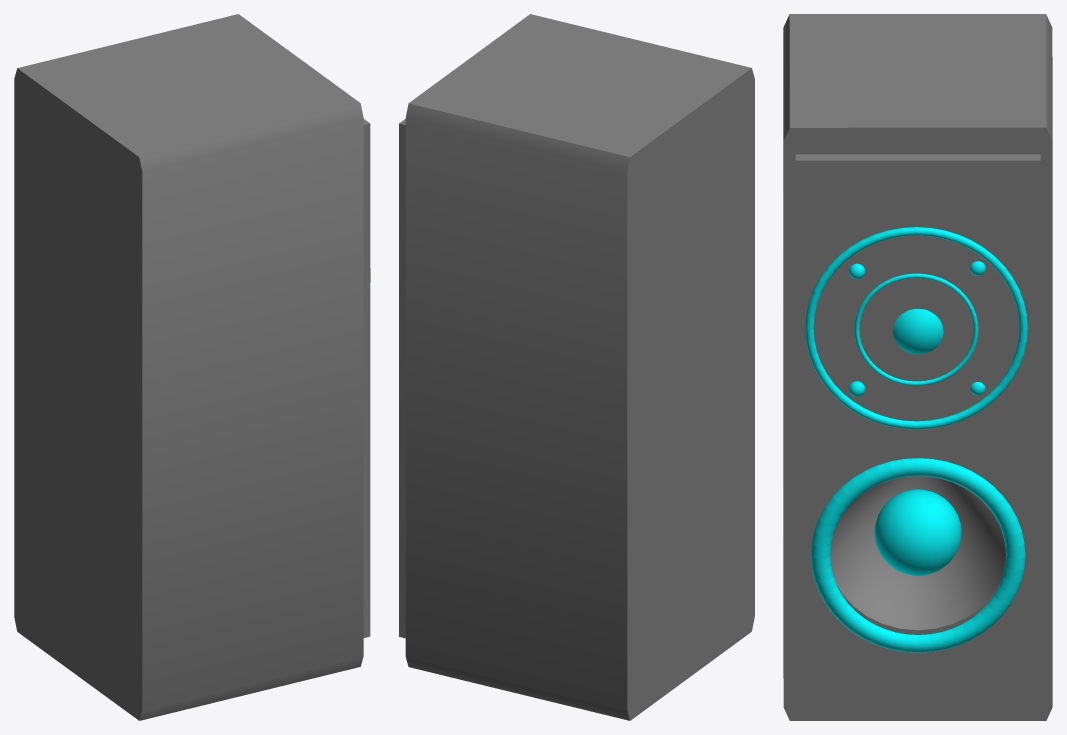
File: Speakers_new_compressed.glb
3 views of the same model, side by side, from view 1: azimuth 30°, elevation 25°; view 2: azimuth 150°, elevation 25°; view 3: azimuth 270°, elevation 25° (orthographic). The views are drawn at different scales.
Parts seen in each view (by area): view 1: Speaker; view 2: Speaker; view 3: Speaker, Torus.001, Circle.
Part boxes in pixels (x1,y1,x2,y2): Speaker: [14, 14, 370, 720]; Speaker: [399, 14, 754, 720]; Speaker: [783, 14, 1052, 720]; Torus.001: [805, 227, 1027, 652]; Circle: [813, 235, 1019, 421].
Size of the model in its own units: 2.22 by 4.86 by 2.
